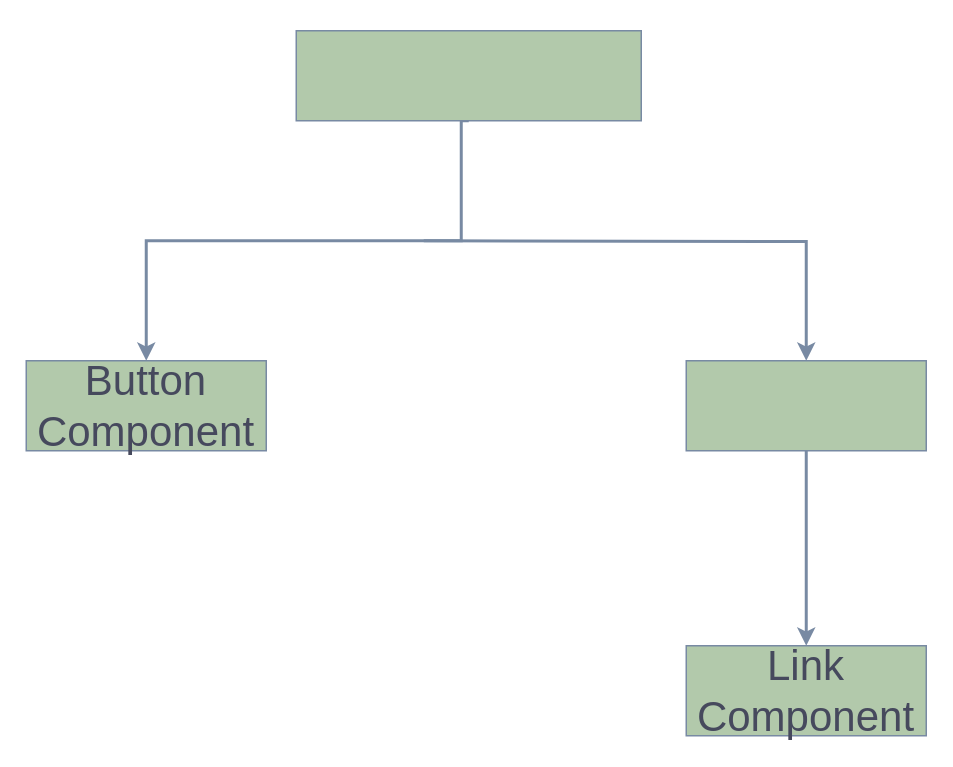
The diagram is 953 pixels wide and 767 high, and some of its shapes have lost their labels. Here are the shapes that lost their labels. From the top down, the centre of each, then its label:
point 468,75: Navbar Component
point 805,405: Hamburger Component
